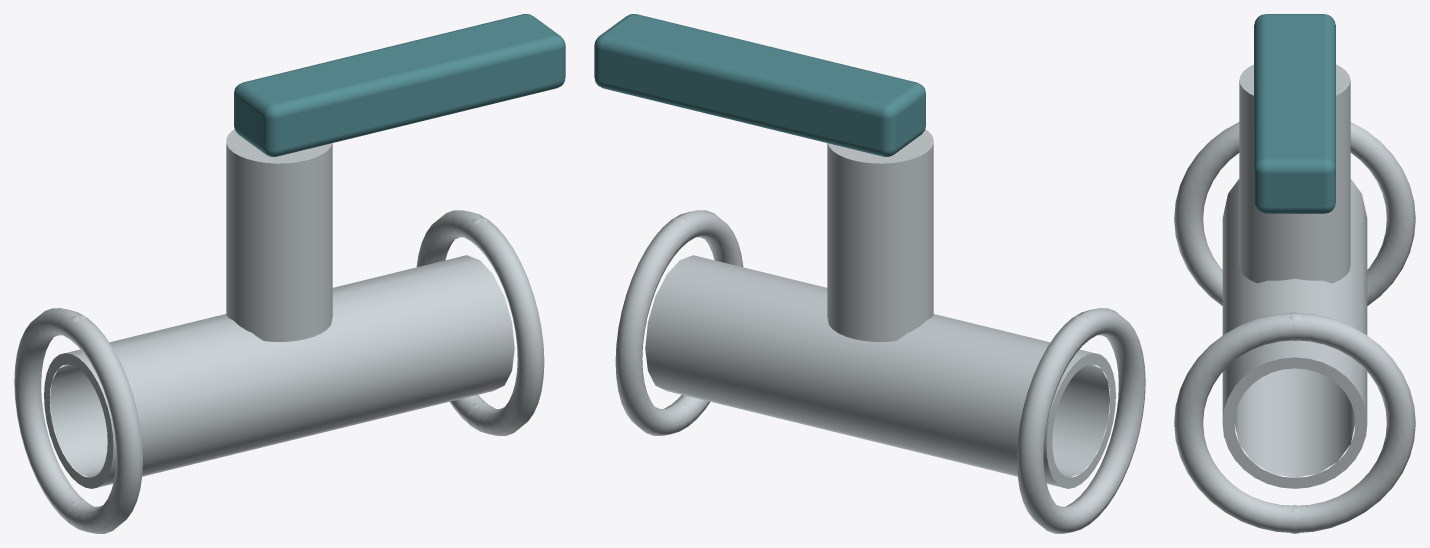
File: cheesemaking-and-dairy-cellar-sanitary-valve-568fdf71__30873.glb
3 views of the same model, side by side, from view 1: azimuth 30°, elevation 25°; view 2: azimuth 150°, elevation 25°; view 3: azimuth 270°, elevation 25° (orthographic). The views are drawn at different scales.
Parts seen in each view (by area): view 1: sanitary-valve; view 2: sanitary-valve; view 3: sanitary-valve.
Part boxes in pixels (x1=…): sanitary-valve: x1=14, y1=14, x2=565, y2=533; sanitary-valve: x1=594, y1=14, x2=1145, y2=533; sanitary-valve: x1=1174, y1=14, x2=1415, y2=533.
Bounding box in the file's own units: 0.241 × 0.185 × 0.1.
